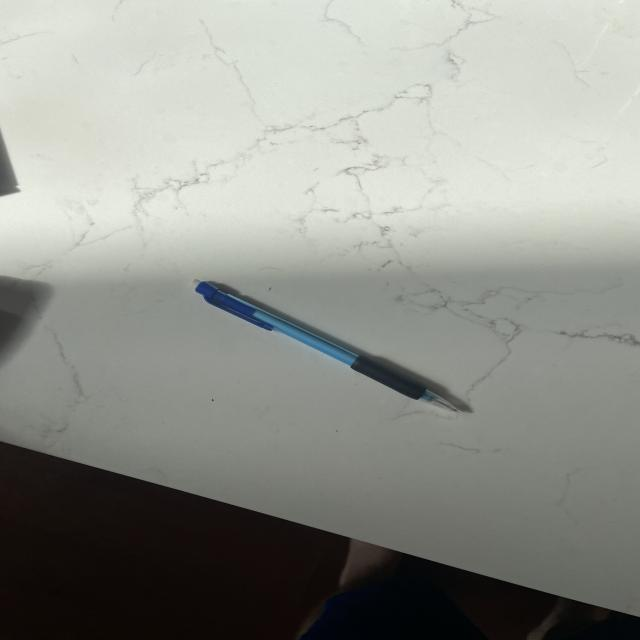mechanical-pencils: (190, 279, 471, 422)
